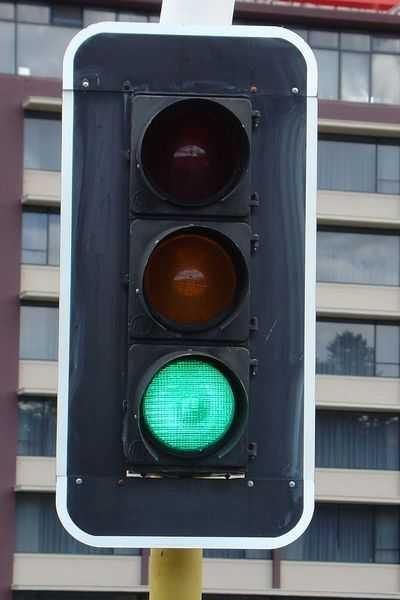2: (62, 24, 317, 547)
3: (128, 78, 256, 216), (130, 224, 261, 342)
red traffic light: (122, 344, 253, 474)
